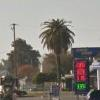Tree: (36, 16, 71, 68)
